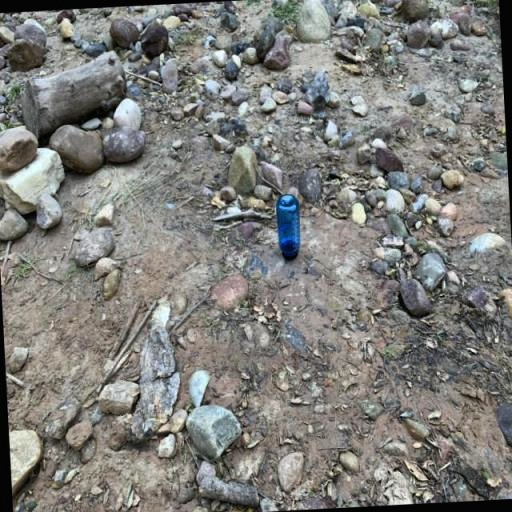bottle: (275, 194, 301, 261)
